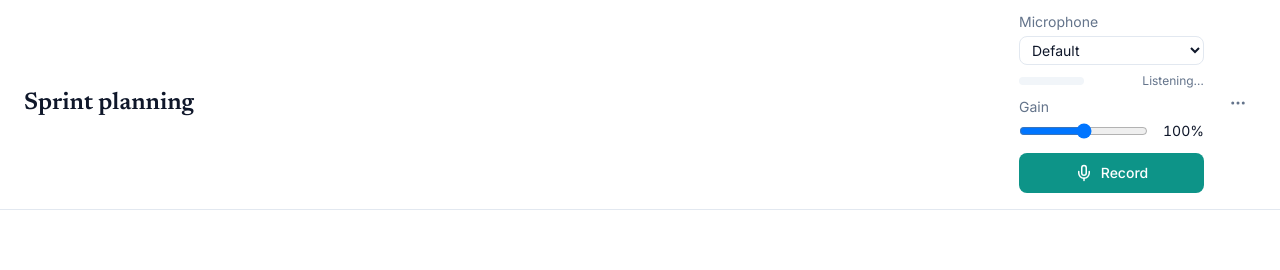
Test case: NoteHeader › shows the Move to Trash item only after opening the menu
Expected: the menu item "move to trash" is not shown
Click the button named "note actions": coordinates (1238, 102) x1=1220 y1=84 x2=1256 y2=120
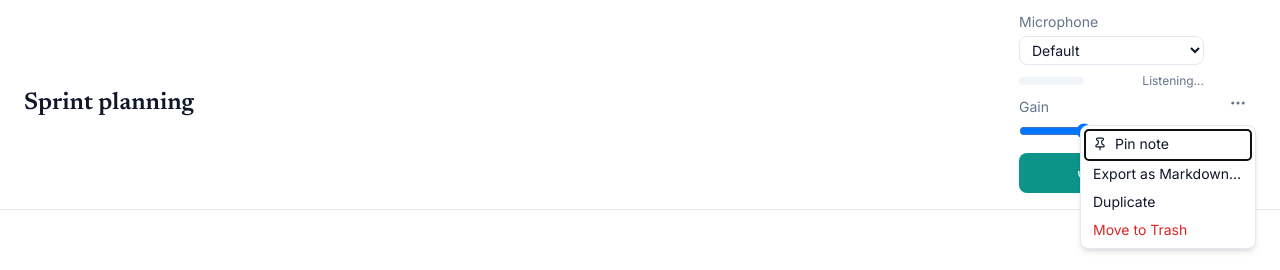
Now the menu item "Move to Trash" is shown, box x1=1085 y1=216 x2=1251 y2=244
